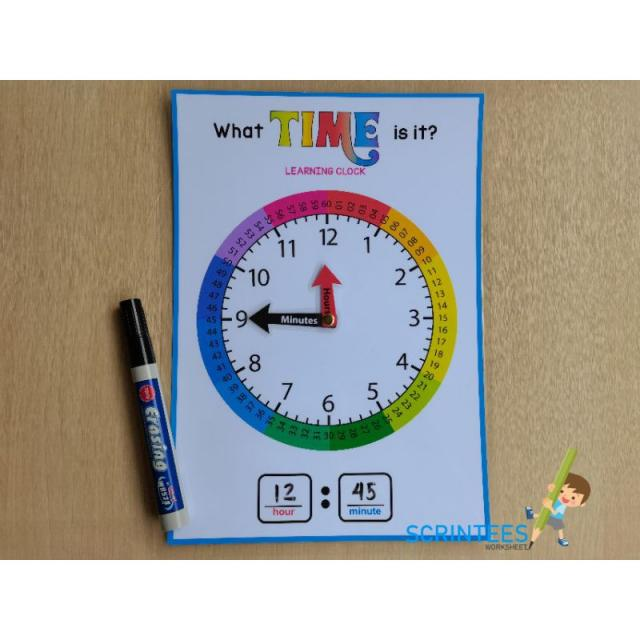clock: (72, 0, 640, 634)
